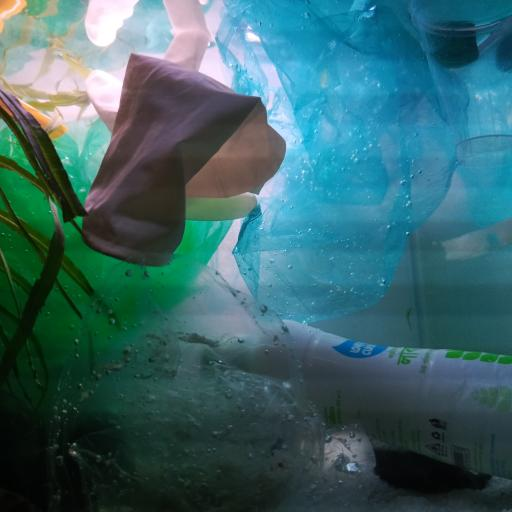bottle_cap: (431, 32, 480, 68)
glove: (82, 0, 286, 265)
plastic_bag: (43, 249, 379, 512), (212, 0, 474, 325), (0, 111, 232, 380)
plastic_bottle: (214, 318, 512, 478)
plastic_cup: (409, 0, 512, 167)
plastic_straw: (0, 99, 67, 139)
